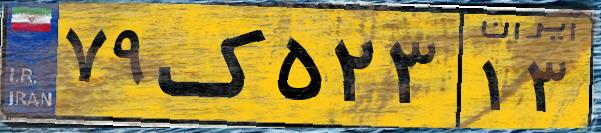1: (475, 38, 525, 113)
2: (330, 28, 385, 110)
3: (385, 28, 445, 110), (525, 38, 570, 115)
5: (270, 28, 330, 110)
7: (57, 26, 110, 100)
9: (110, 28, 158, 98)
ک: (158, 12, 270, 120)
